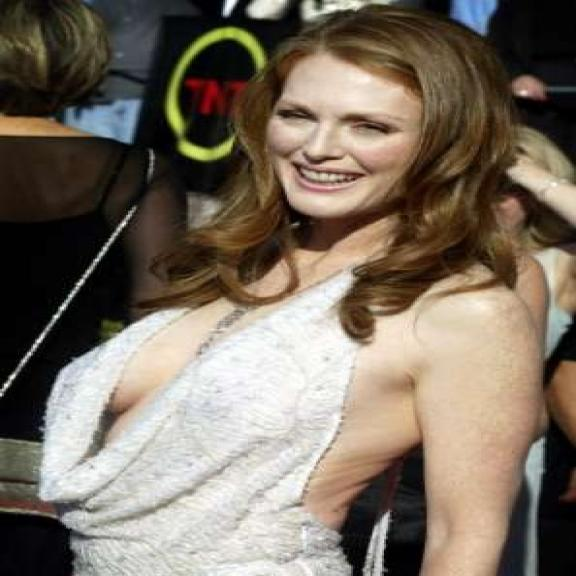face: (268, 48, 432, 221)
